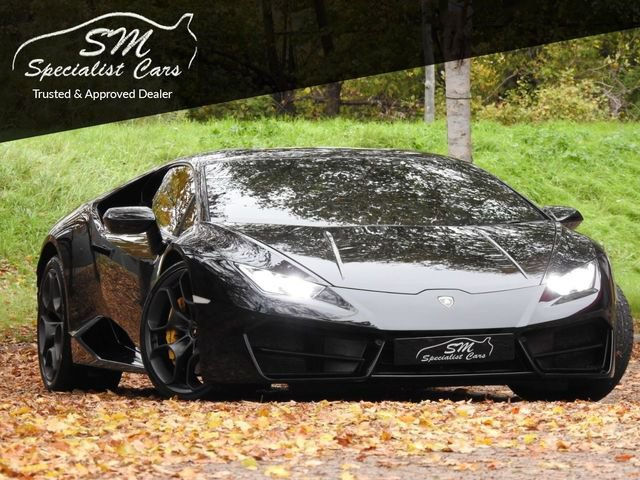car: (34, 143, 630, 408)
